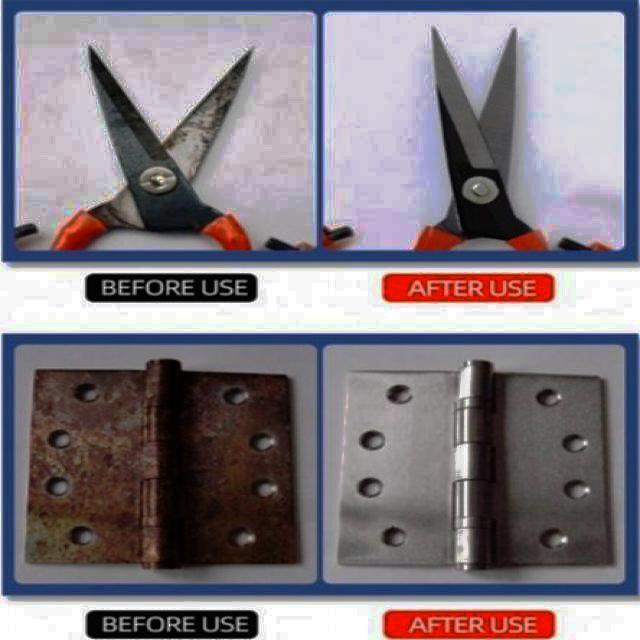Corrosion: (21, 358, 305, 570), (91, 51, 254, 168)
